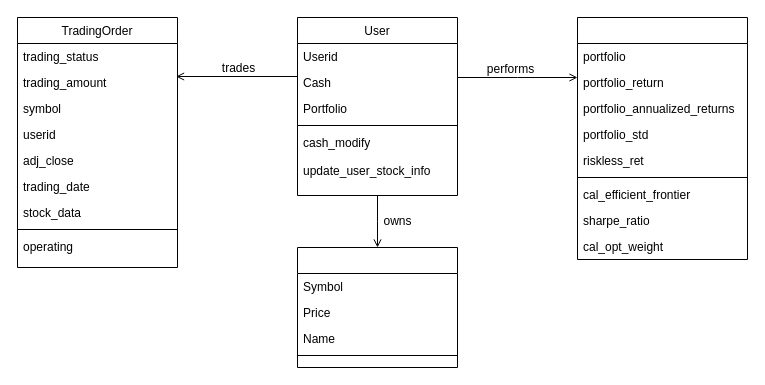
This 765x385 diagram has some shape labels left out. The box of each missing label's shape, as (x1, y1, x2, y2) in pixels:
PortfolioAnalysis: (576, 16, 748, 260)
Stock: (296, 246, 458, 368)
